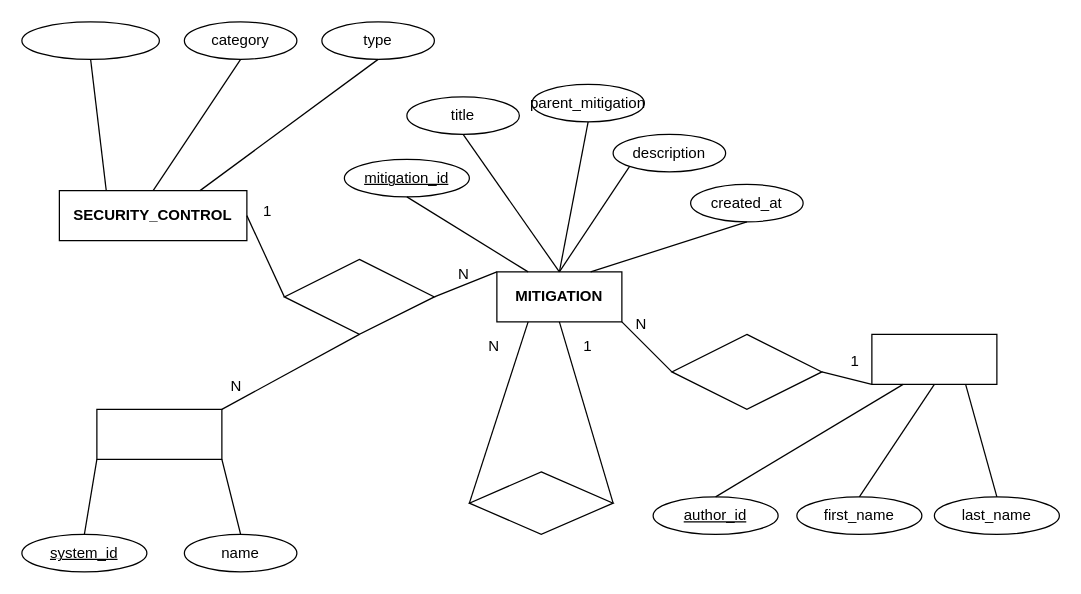
This 1081x594 diagram has some shape labels left out. The shapes that lost their labels are listed below. From the top down, each one's box as (x1, y1, x2, y2) in pixels, then its label:
(21, 21, 159, 59): security_control_id
(283, 258, 434, 334): FORM
(671, 333, 822, 409): WRITE
(871, 333, 997, 384): AUTHOR
(96, 408, 222, 459): SYSTEM
(468, 471, 613, 534): FORK_OF
